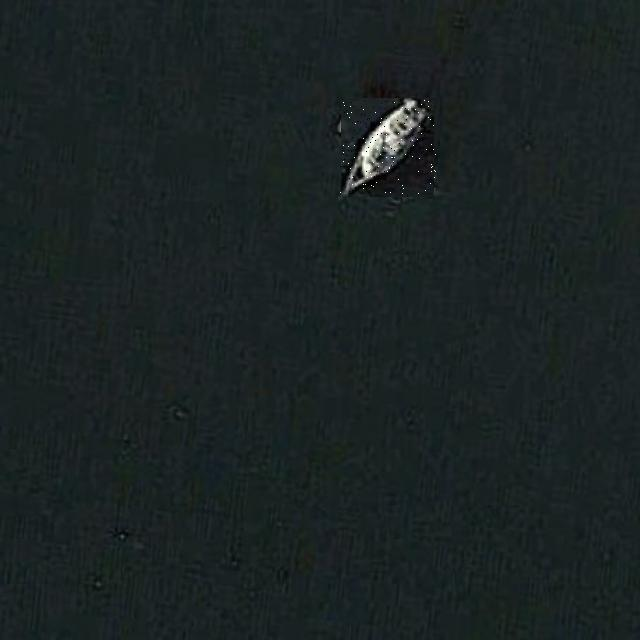boat: (339, 100, 436, 196)
